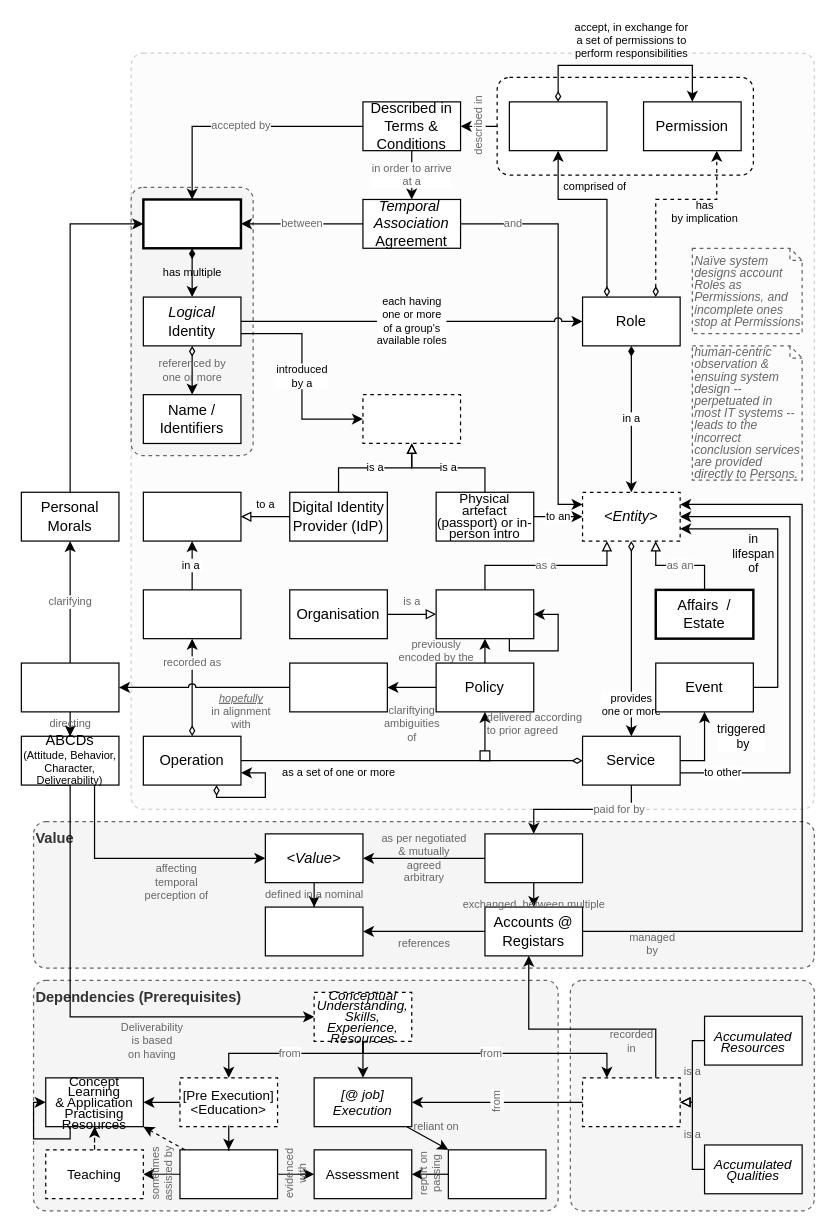
The diagram is 836 pixels wide and 1232 high, and some of its shapes have lost their labels. Each missing label, with the box of its shape:
<Saving>: (581, 1077, 680, 1127)
[Subject, Event, Result] Record: (142, 589, 241, 639)
[Transferable] Record of Indebtness: (484, 833, 583, 883)
Certification: (447, 1149, 546, 1199)
Currency / Denomination: (264, 906, 363, 956)
Group: (435, 589, 534, 639)
Group Guiding Principles: (289, 662, 387, 712)
Learning: (179, 1149, 278, 1199)
Motivation (Wellbeing): (569, 979, 814, 1211)
Natural, Artificial, Legal Person / Object/Animal: (142, 198, 242, 249)
Personal [Estate] Guiding Principles: (20, 662, 119, 712)
Responsibility: (508, 101, 607, 151)
Scene: (130, 52, 814, 809)
System: (142, 491, 241, 541)
Trusted Identity Confirmer/ Artefact Provider: (362, 393, 461, 443)
